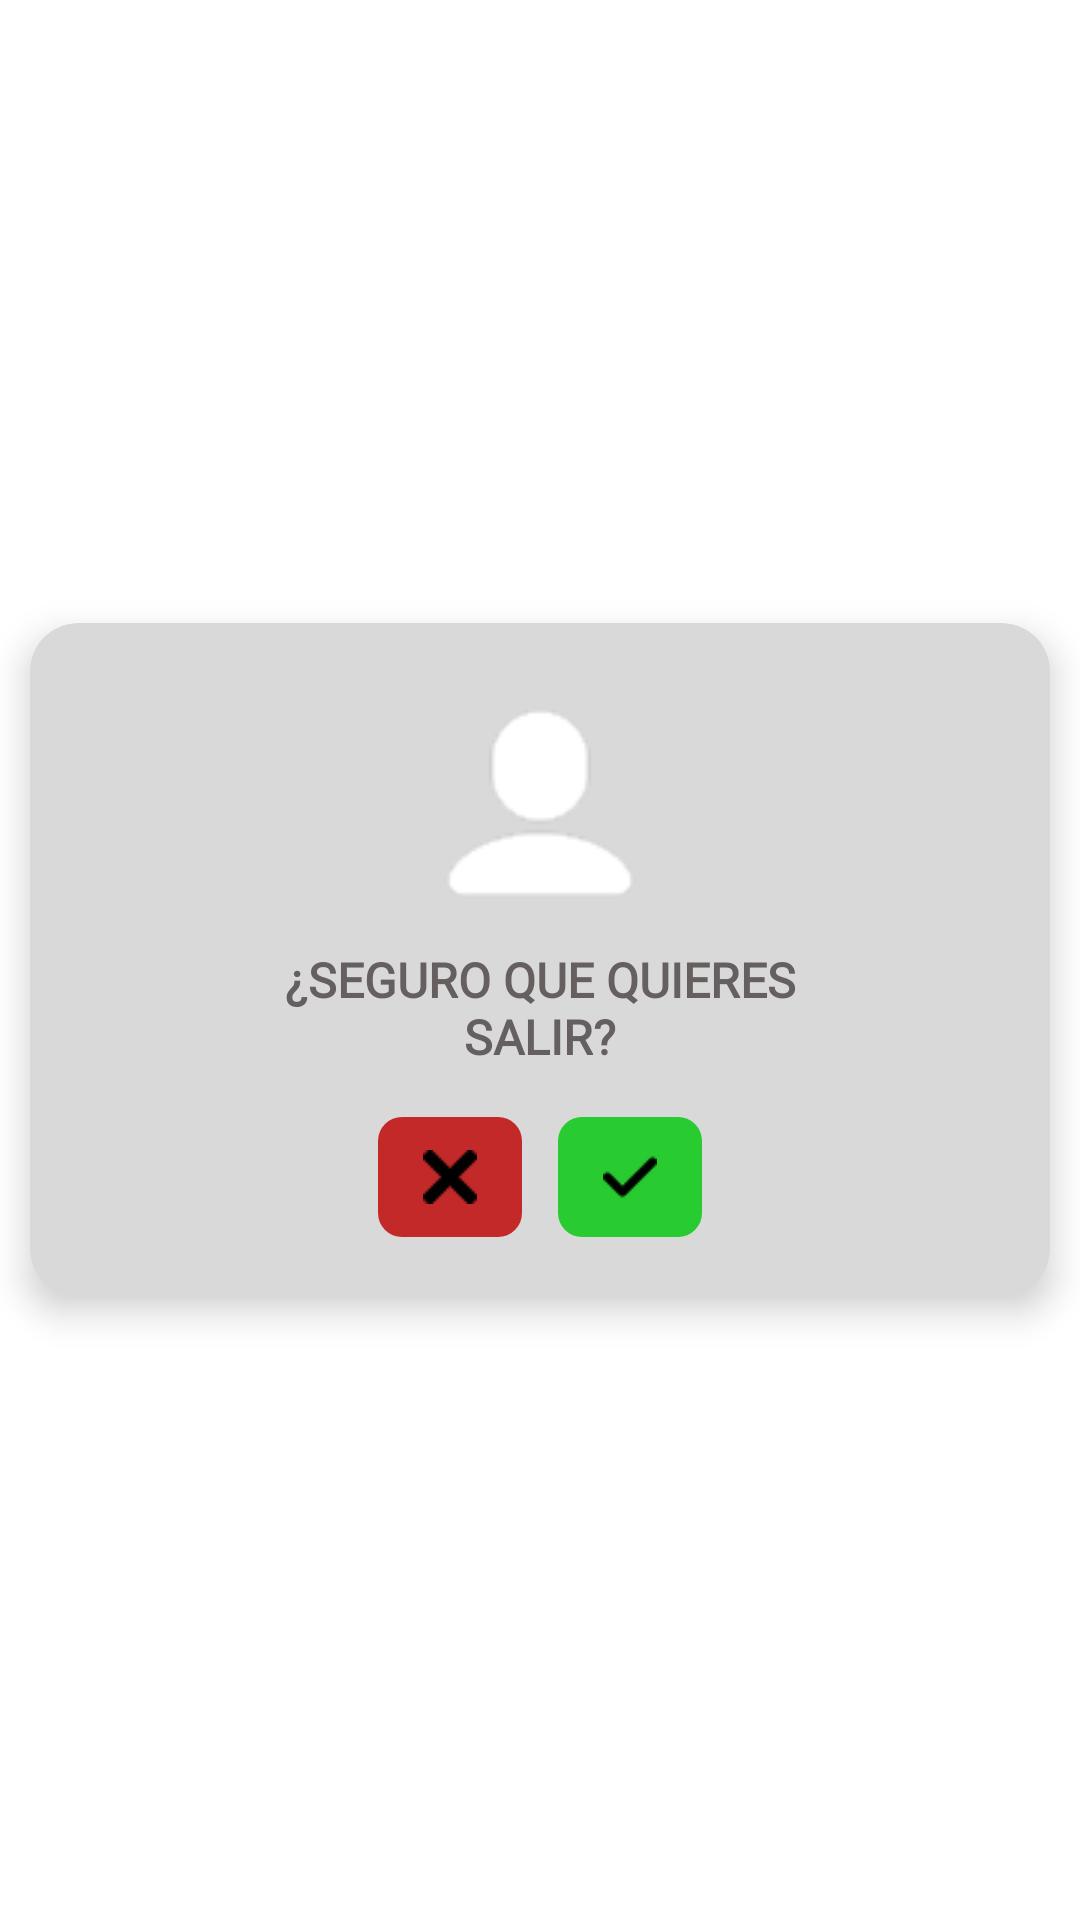

Icon bounding boxes for this 1080 x 1920 phone screenshot, format (x1, y1, x2, y2):
No, cerrar: (378, 1117, 522, 1237)
Sí, salir: (558, 1117, 702, 1237)
Usuario: (450, 713, 630, 893)
